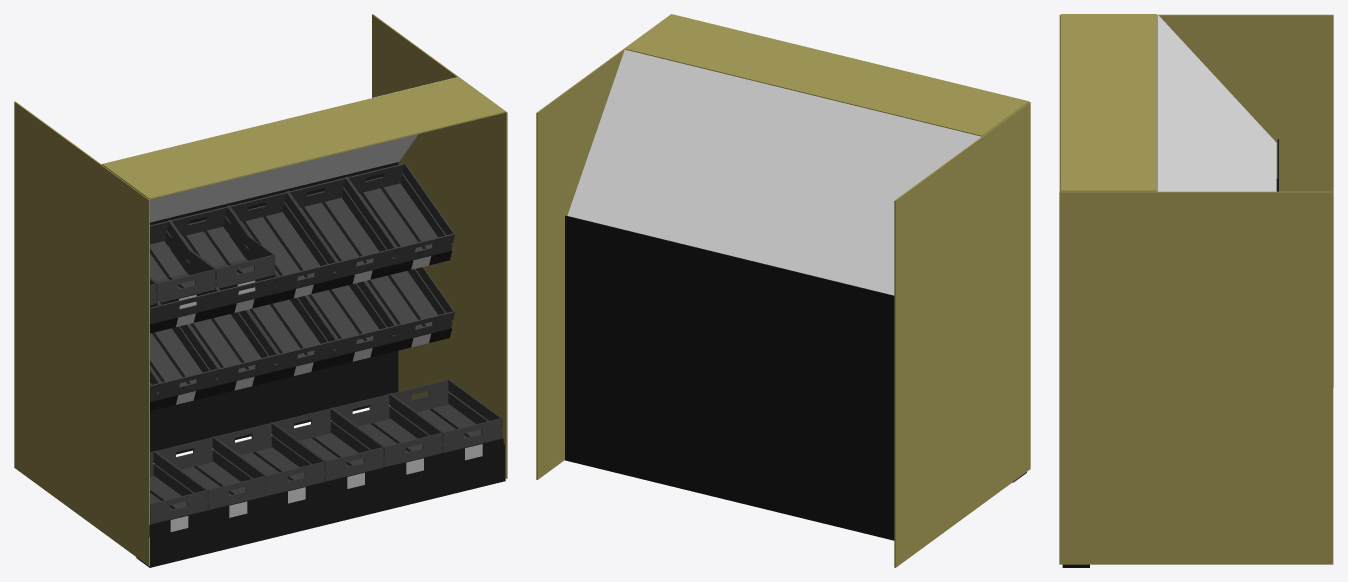
The model's file is fruit_box.fbx.
The picture shows the model from 3 angles, left to right: view 1: azimuth 30°, elevation 25°; view 2: azimuth 150°, elevation 25°; view 3: azimuth 270°, elevation 25°; orthographic projection.
Parts seen in each view (by area): view 1: Stand_structure, fruit_boxes, Mirror, Cube.004, Cube.003; view 2: Stand_structure, Mirror; view 3: Stand_structure, Mirror.
Boxes of the visible parts, <box> form: Stand_structure: <box>14,14,507,567</box>; fruit_boxes: <box>149,162,503,537</box>; Mirror: <box>101,77,456,222</box>; Cube.004: <box>189,219,275,288</box>; Cube.003: <box>150,236,216,302</box>; Stand_structure: <box>536,14,1030,567</box>; Mirror: <box>567,49,981,295</box>; Stand_structure: <box>1059,14,1333,567</box>; Mirror: <box>1156,14,1276,191</box>.
Bounding box in the file's own units: 3074 × 3036 × 2002.
